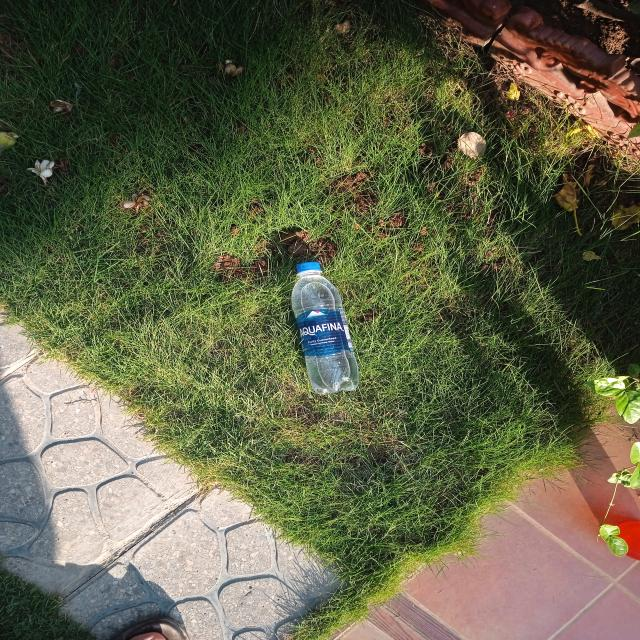Plastic: (278, 258, 369, 402)
